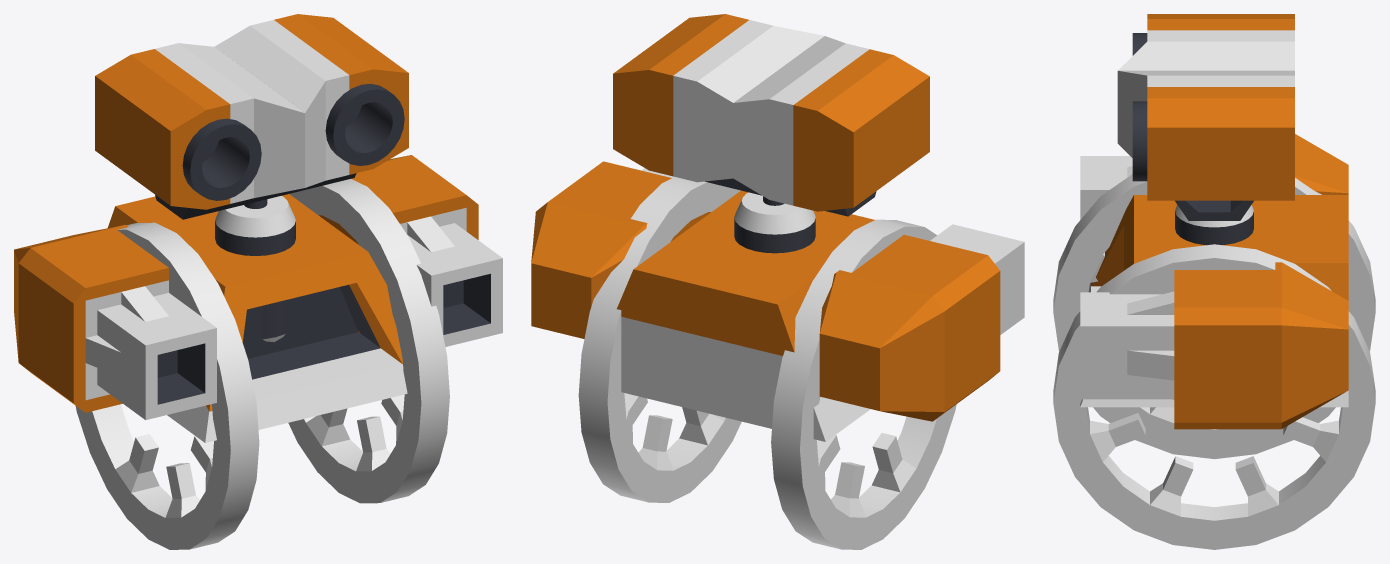
File: walking_01_05.obj
The picture shows the model from 3 angles, left to right: view 1: azimuth 30°, elevation 25°; view 2: azimuth 150°, elevation 25°; view 3: azimuth 270°, elevation 25°; orthographic projection. The views are drawn at different scales.
Parts seen in each view (by area): view 1: mergedBlocks; view 2: mergedBlocks; view 3: mergedBlocks.
Boxes of the visible parts, box(x1,y1,x2,y2) form: mergedBlocks: box(14, 14, 502, 549); mergedBlocks: box(531, 14, 1024, 549); mergedBlocks: box(1053, 14, 1375, 549).
Bounding box in the file's own units: 1.7 × 1.8 × 1.2.
